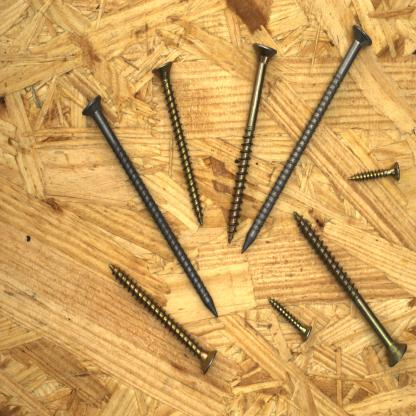screw: (239, 19, 375, 258), (81, 88, 221, 320), (290, 207, 411, 370), (106, 259, 220, 377), (226, 37, 278, 246), (150, 59, 207, 228), (264, 291, 314, 344), (346, 159, 404, 186)
